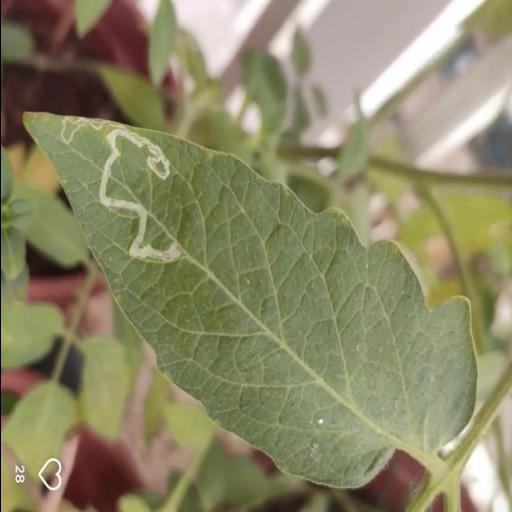Leaf Miner: (24, 104, 478, 490)
